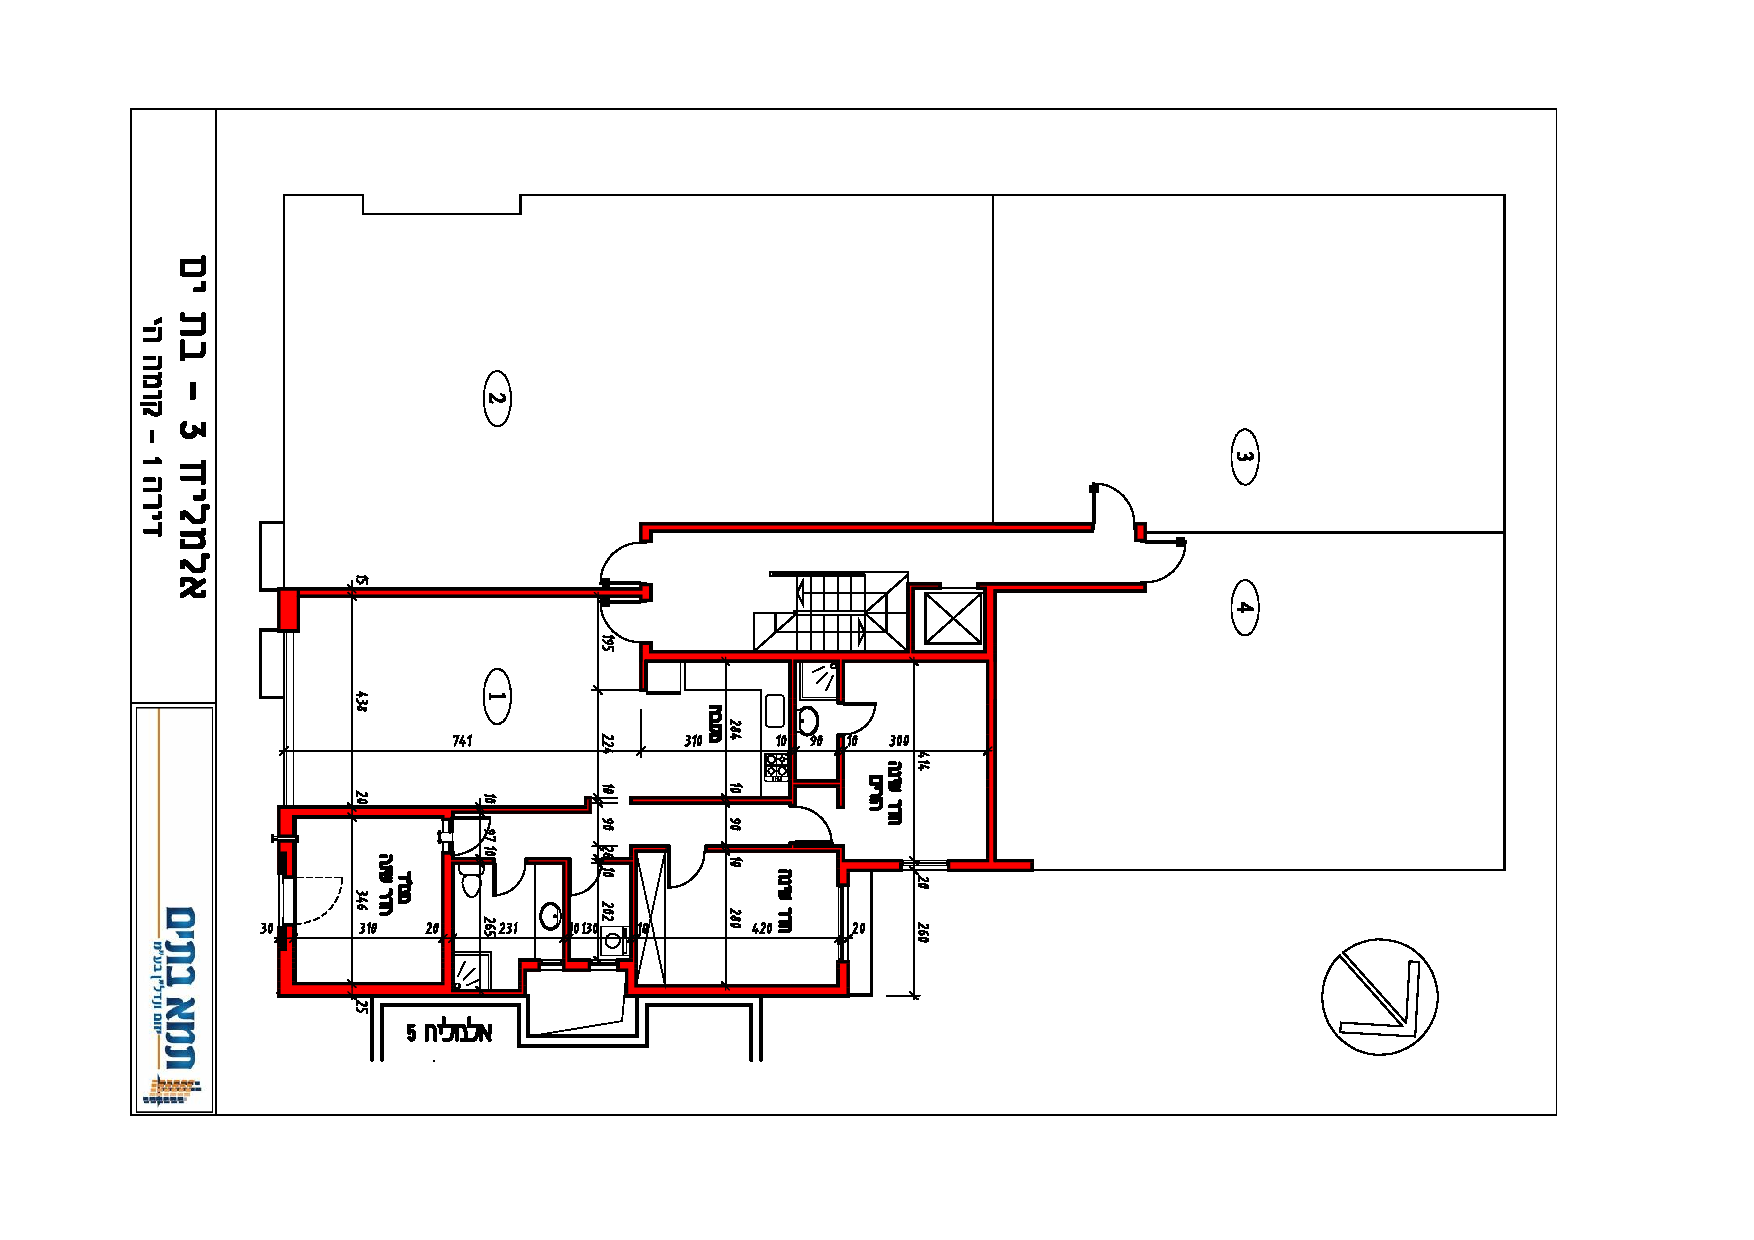door: (299, 870, 349, 931), (1147, 534, 1194, 590), (1086, 480, 1139, 527), (599, 600, 641, 645), (792, 800, 833, 845), (596, 541, 639, 582), (670, 854, 710, 896), (844, 699, 884, 734), (488, 868, 527, 900)
